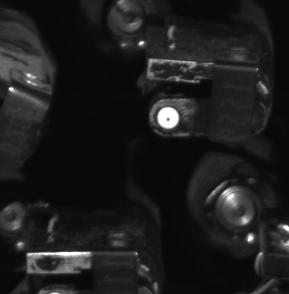fiber: (153, 104, 186, 134)
